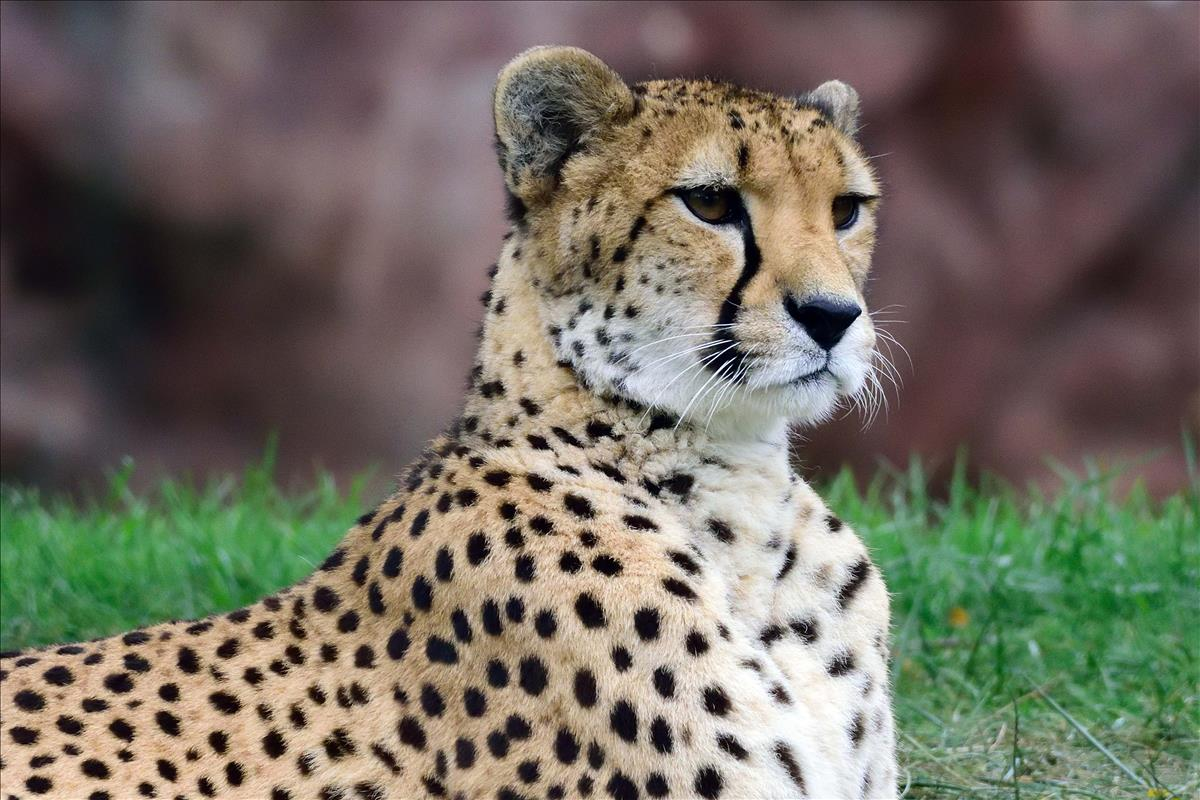cheetah: (461, 24, 932, 460)
